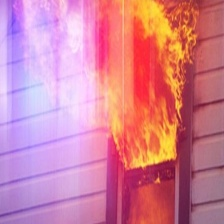fire: (105, 2, 198, 168)
